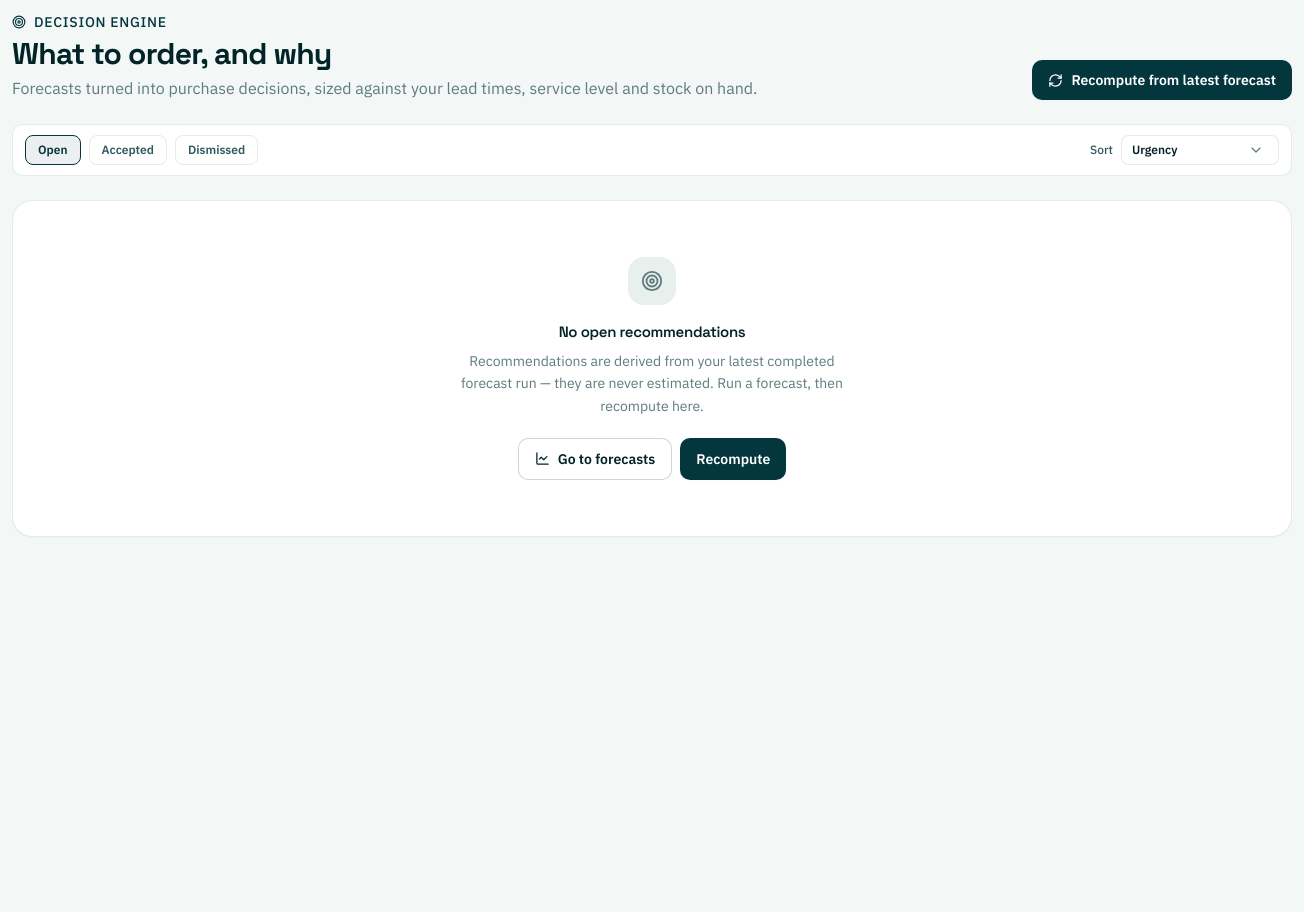
Scenario: Decisions page (deep audit F3, F6, F8, F14) › explains why SKUs were left out after a recompute
Click the button "Recompute from latest forecast" at (1162, 80), box [1032,60,1292,100]
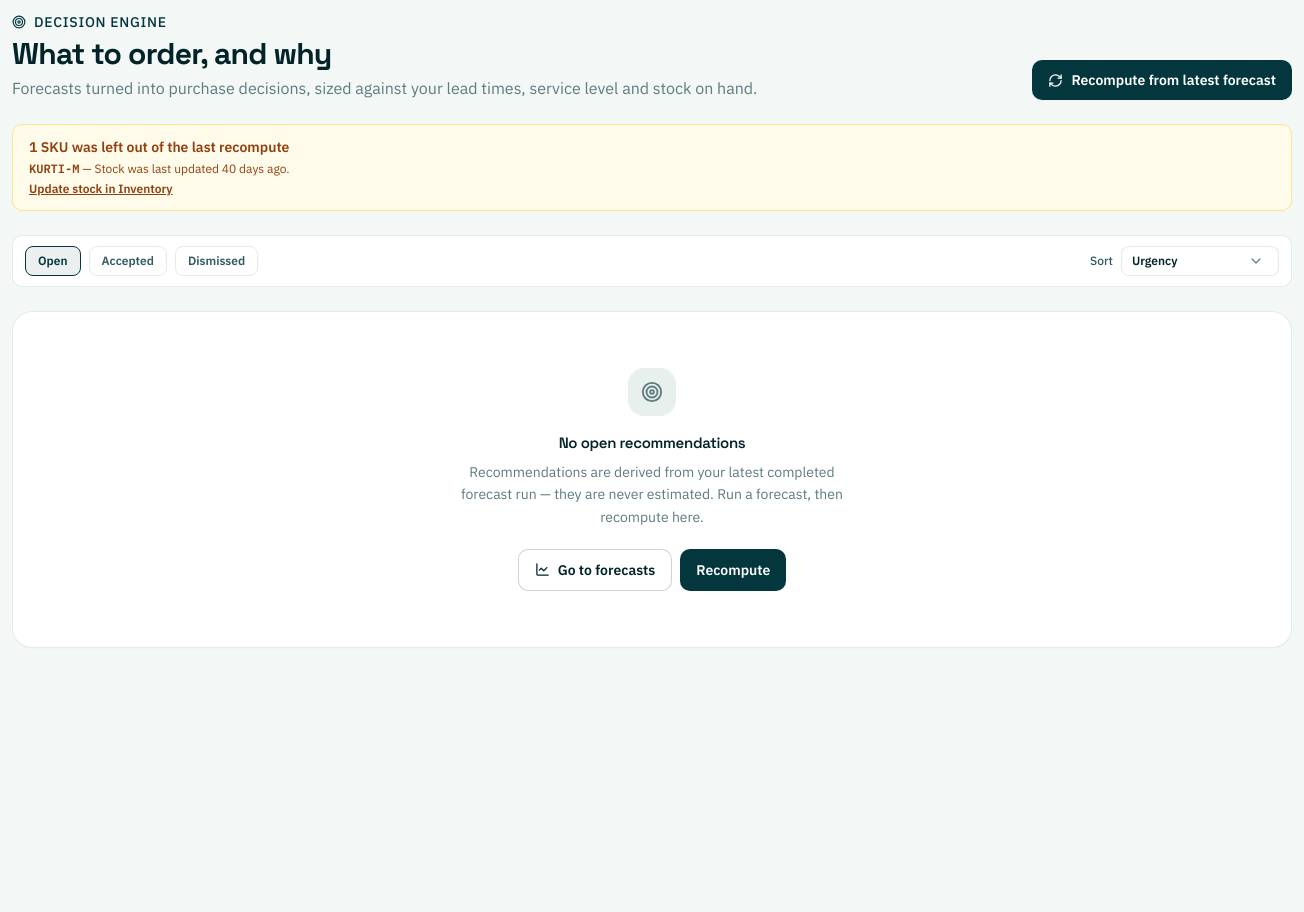
Expected: the text "KURTI-M" is shown, [29,161,79,176]
Expected: the list item "KURTI-M — Stock was last updated 40 days ago." is shown, [29,161,289,176]
